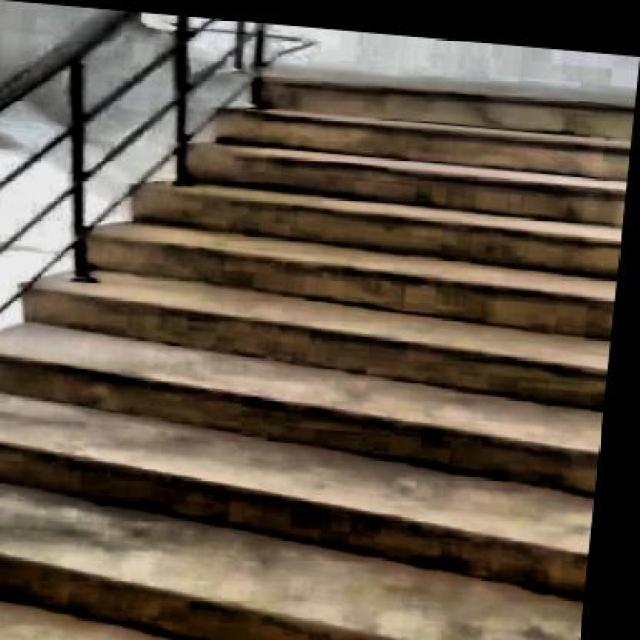stair: (0, 39, 635, 638)
